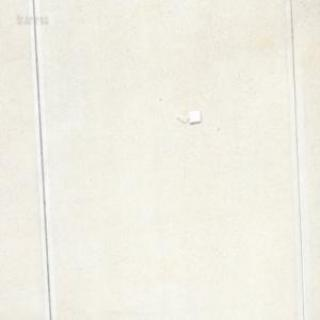LuggageTagtrack_idkeyframe: (176, 108, 200, 125)
